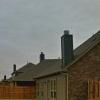Chimney: (55, 20, 84, 73)
